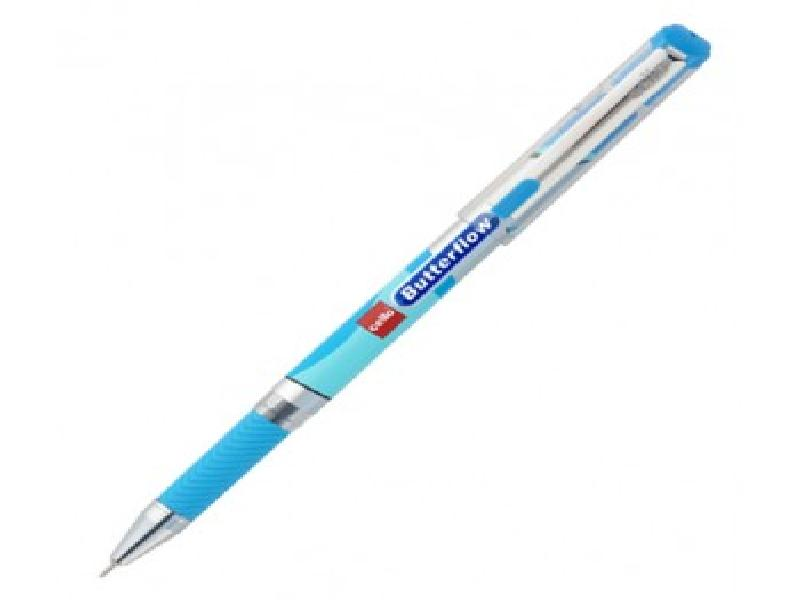pen: (89, 16, 719, 588)
